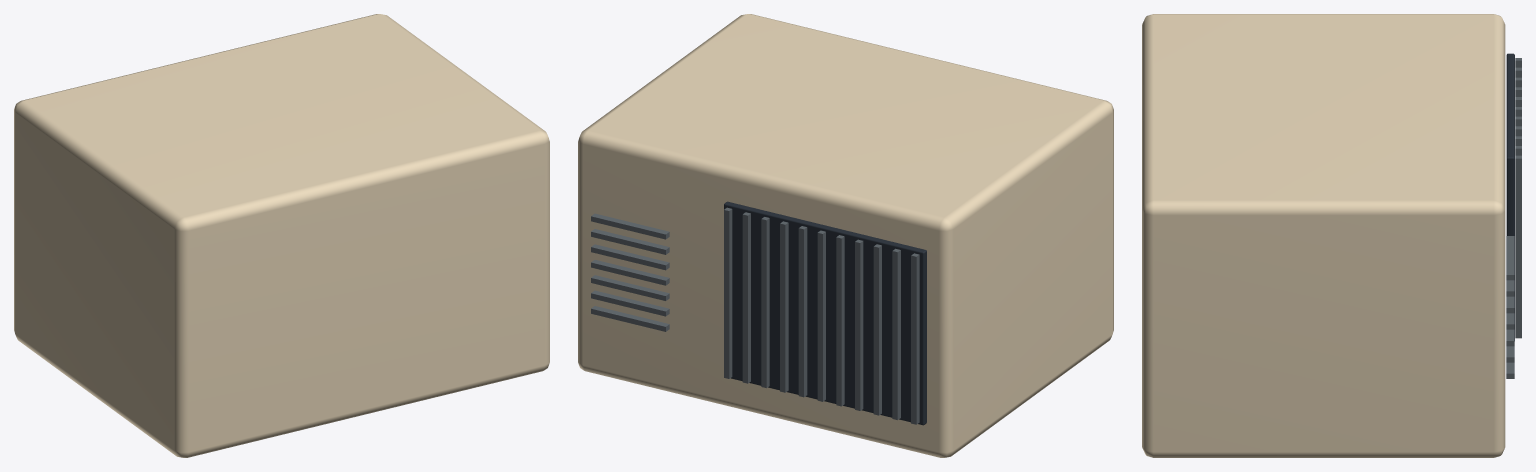
Rendered from roof-ac.glb.
3 renders of one model, left to right at view 1: azimuth 30°, elevation 25°; view 2: azimuth 150°, elevation 25°; view 3: azimuth 270°, elevation 25°, orthographic. The views are drawn at different scales.
Visible parts, largest first — view 1: roof-cream; view 2: roof-cream, roof-metal, roof-navy; view 3: roof-cream, roof-metal, roof-navy.
Part boxes in pixels (x1,y1,x2,y2): roof-cream: (14,14,549,457); roof-cream: (578,14,1113,457); roof-metal: (591,207,919,424); roof-navy: (724,201,926,425); roof-cream: (1142,14,1505,457); roof-metal: (1506,58,1521,378); roof-navy: (1506,53,1514,340).
Bounding box in the file's own units: 1.4 × 0.86 × 1.15.
